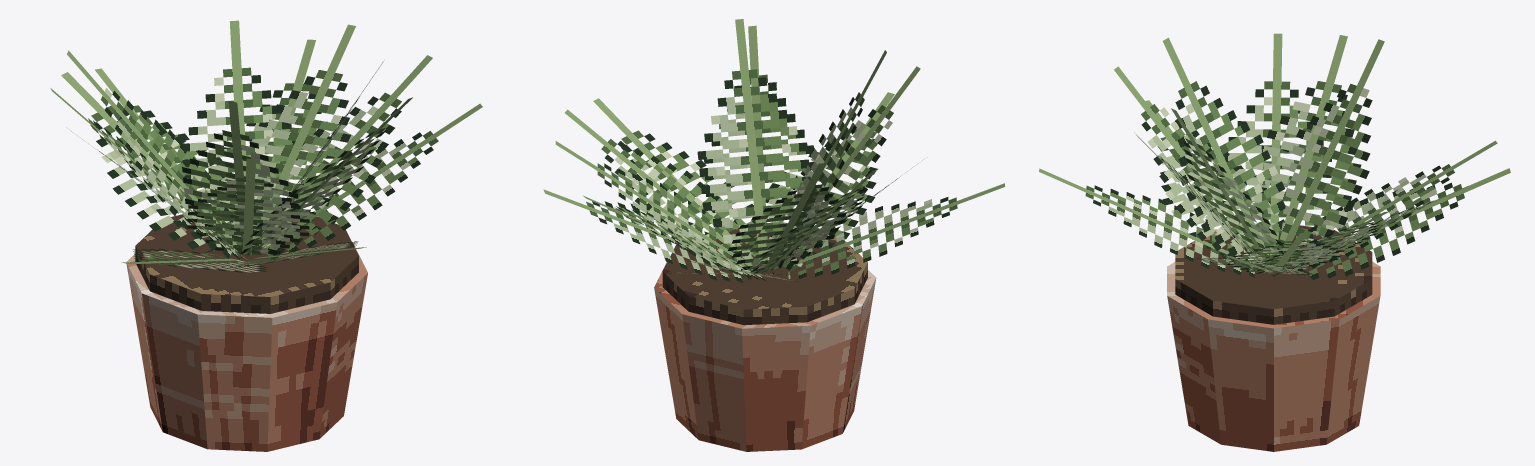
Rendered from plant_fern.glb.
3 renders of one model, left to right at view 1: azimuth 30°, elevation 25°; view 2: azimuth 150°, elevation 25°; view 3: azimuth 270°, elevation 25°, orthographic. The views are drawn at different scales.
Visible parts, largest first — view 1: pot, soil, frond_13, frond_15, frond_6, frond_7, frond_12, frond_2, frond_1, frond_11, frond_9, frond_14 (+4 smaller); view 2: pot, soil, frond_10, frond_5, frond_9, frond_2, frond_12, frond_13, frond_7, frond_11, frond_14, frond_6 (+3 smaller); view 3: pot, soil, frond_6, frond_2, frond_3, frond_4, frond_7, frond, frond_8, frond_1, frond_10, frond_12 (+5 smaller).
Part boxes in pixels (x1,y1,x2,y2): pot: [126, 242, 367, 451]; soil: [135, 209, 358, 313]; frond_13: [225, 24, 355, 247]; frond_15: [180, 20, 303, 237]; frond_6: [182, 100, 301, 255]; frond_7: [187, 158, 309, 254]; frond_12: [258, 55, 432, 254]; frond_2: [67, 50, 241, 258]; frond_1: [61, 72, 239, 252]; frond_11: [264, 103, 482, 259]; frond_9: [239, 97, 412, 258]; frond_14: [217, 39, 334, 244]; pot: [654, 262, 876, 451]; soil: [662, 227, 867, 325]; frond_10: [697, 19, 810, 265]; frond_5: [788, 183, 1005, 278]; frond_9: [704, 25, 814, 258]; frond_2: [728, 163, 846, 271]; frond_12: [565, 109, 758, 274]; frond_13: [555, 141, 752, 279]; frond_7: [768, 66, 920, 270]; frond_11: [593, 98, 768, 266]; frond_14: [543, 189, 749, 283]; frond_6: [769, 50, 886, 274]; pot: [1167, 262, 1380, 451]; soil: [1175, 225, 1372, 324]; frond_6: [1162, 37, 1285, 265]; frond_2: [1262, 39, 1384, 265]; frond_3: [1253, 35, 1361, 259]; frond_4: [1219, 33, 1331, 256]; frond_7: [1114, 66, 1269, 270]; frond: [1294, 168, 1510, 279]; frond_8: [1039, 168, 1254, 277]; frond_1: [1290, 140, 1497, 273]; frond_10: [1171, 108, 1286, 271]; frond_12: [1227, 232, 1344, 271].
Bounding box in the file's own units: 0.5508 × 0.4456 × 0.5609.
2 materials, 2 textured.
